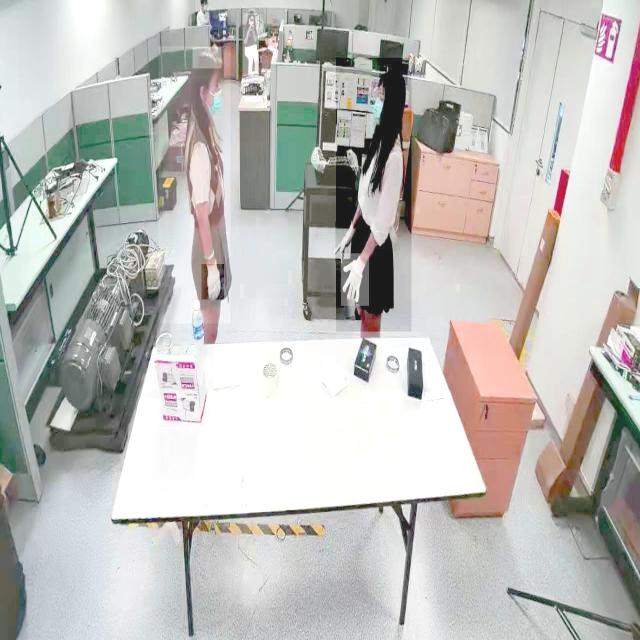face_mask: (371, 87, 395, 133)
hand_glove: (341, 253, 369, 307), (334, 221, 356, 263), (201, 264, 224, 300)
head_nohelmet: (192, 47, 222, 69), (379, 67, 407, 86), (248, 9, 256, 16)
person: (336, 58, 412, 332), (158, 46, 230, 324), (242, 13, 259, 78)
